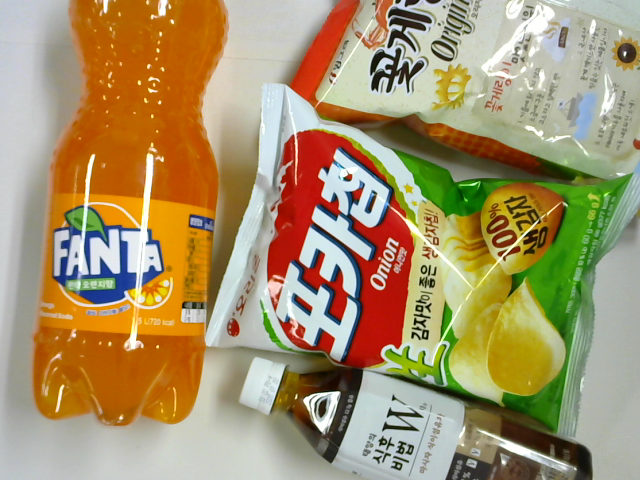Crabrang: (288, 1, 640, 187)
Hwanta_Orange_1.5L: (30, 1, 230, 427)
Pocachip_Onion: (205, 84, 639, 439)
Post-meal_recipe_W_tea_500ml: (240, 356, 595, 480)
